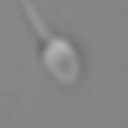normal: (17, 1, 57, 38)
